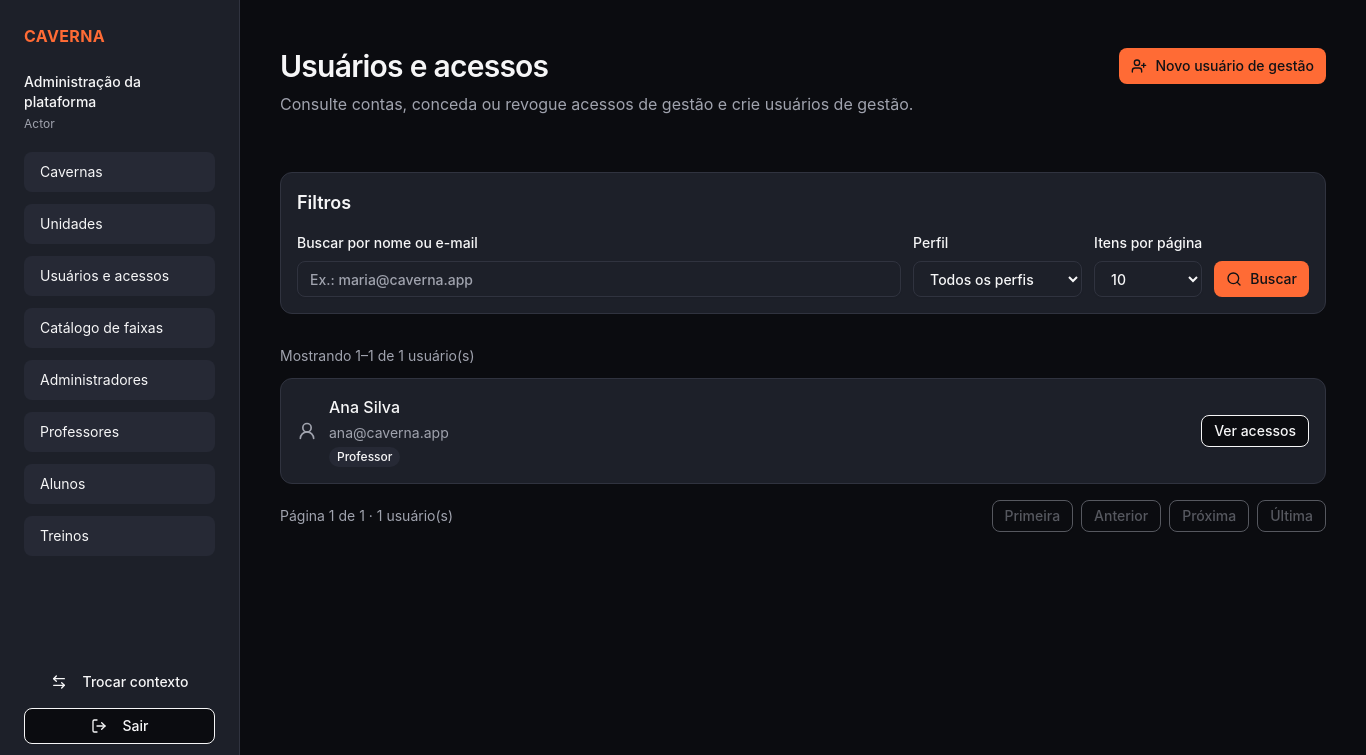
PlatformUsersPage › locks every action for an admin when the actor is not root
Click the button "Ver acessos".
click(1255, 431)  # box [1201,415,1309,447]
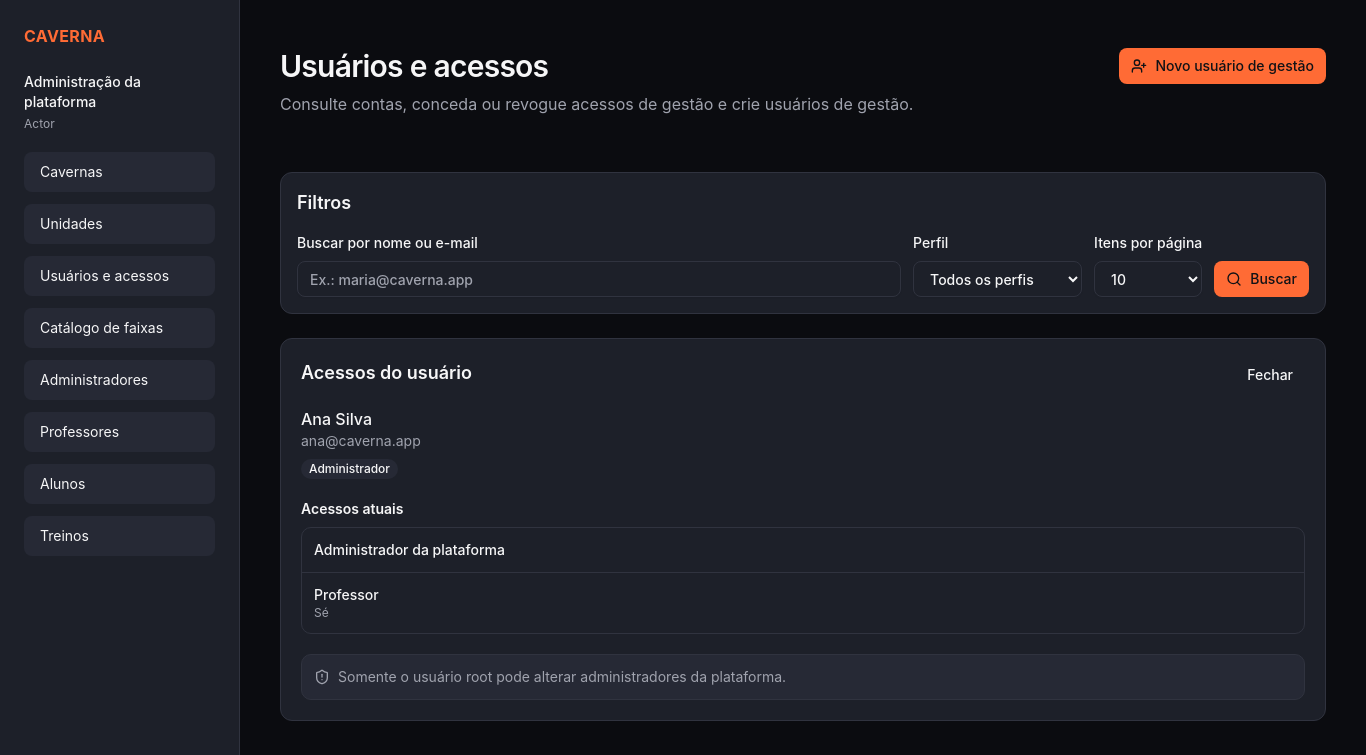
Now the text "Somente o usuário root" is shown, box [338,668,786,685]
